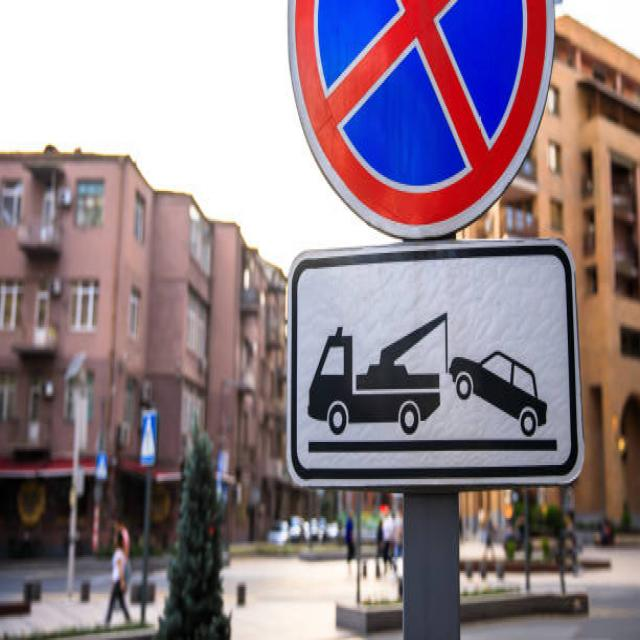no_parking: (264, 0, 575, 246)
